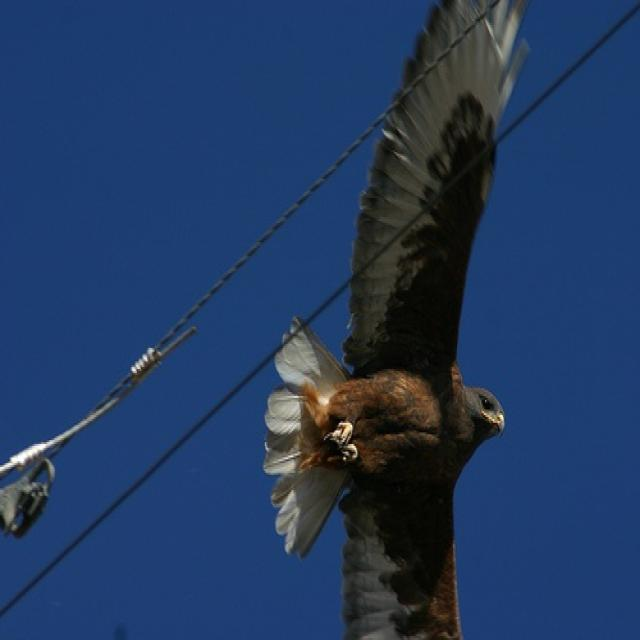bird: (269, 4, 521, 634)
